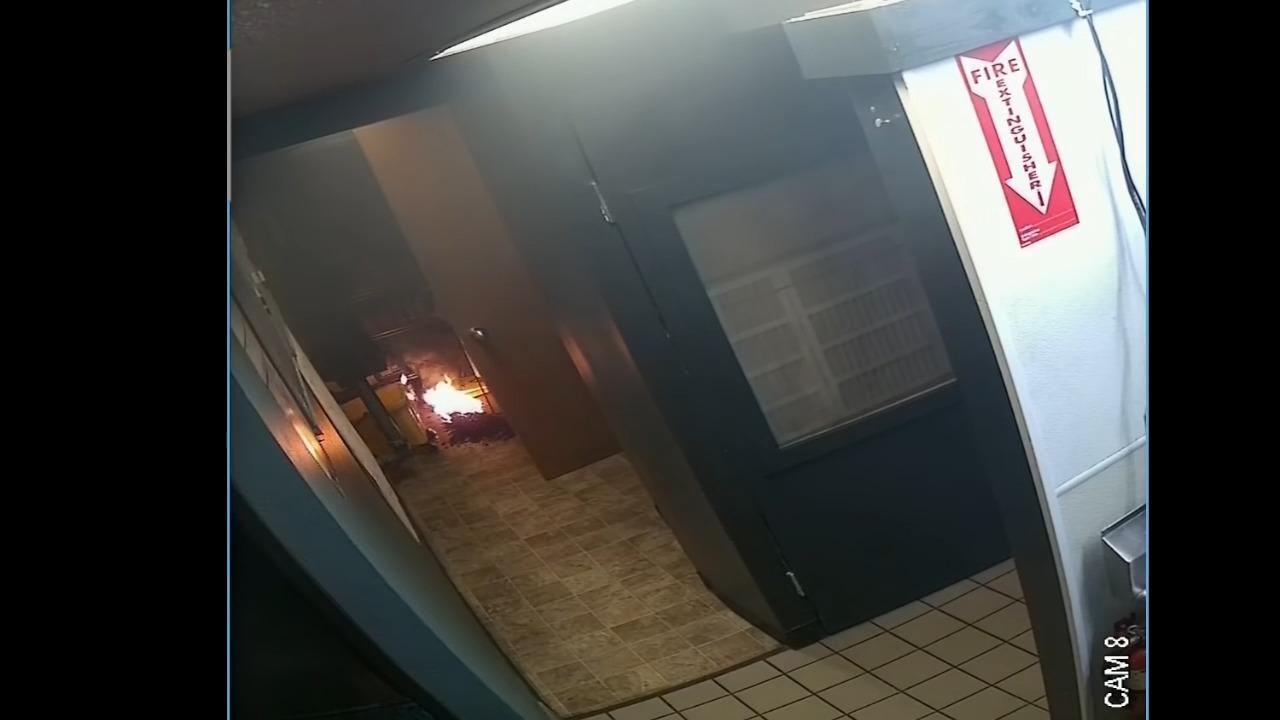fire: (423, 374, 483, 424)
